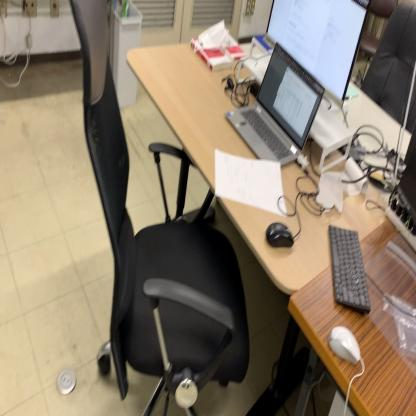chair: (68, 0, 252, 415)
